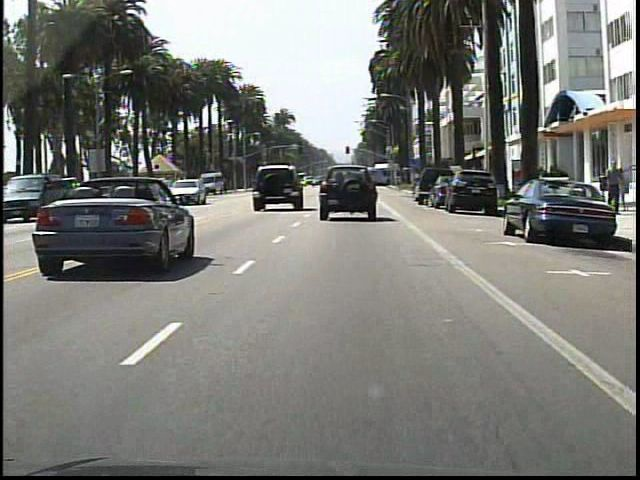person: (601, 157, 624, 215)
